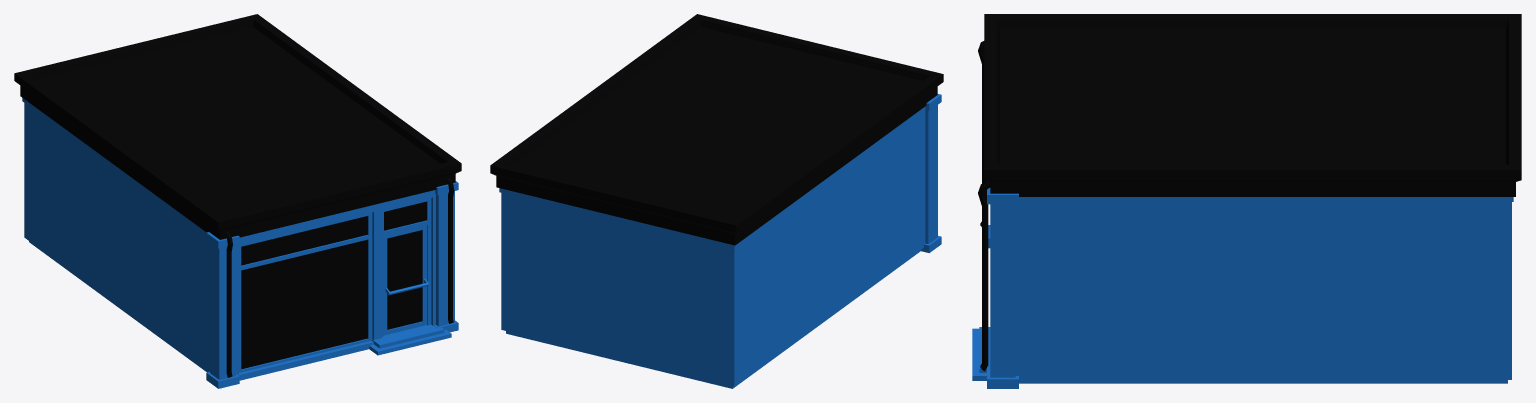
Rendered from SM_shop.fbx.
3 views of the same model, side by side, from view 1: azimuth 30°, elevation 25°; view 2: azimuth 150°, elevation 25°; view 3: azimuth 270°, elevation 25° (orthographic). The views are drawn at different scales.
Parts seen in each view (by area): view 1: Cylinder_3, Cube_79, Cube_4; view 2: Cube_79, Cylinder_3; view 3: Cylinder_3, Cube_79.
Part boxes in pixels (bbox=[...]): Cylinder_3: bbox=[14, 14, 461, 377]; Cube_79: bbox=[22, 98, 458, 388]; Cube_4: bbox=[384, 225, 428, 335]; Cube_79: bbox=[499, 94, 941, 388]; Cylinder_3: bbox=[490, 14, 943, 245]; Cylinder_3: bbox=[978, 14, 1521, 371]; Cube_79: bbox=[972, 188, 1513, 388].
Bounding box in the file's own units: 562 × 369 × 835.
